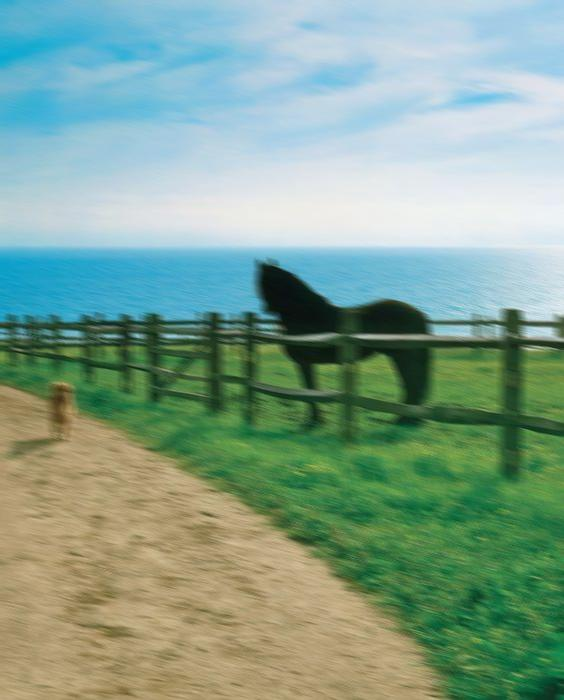horse: (254, 256, 434, 431)
